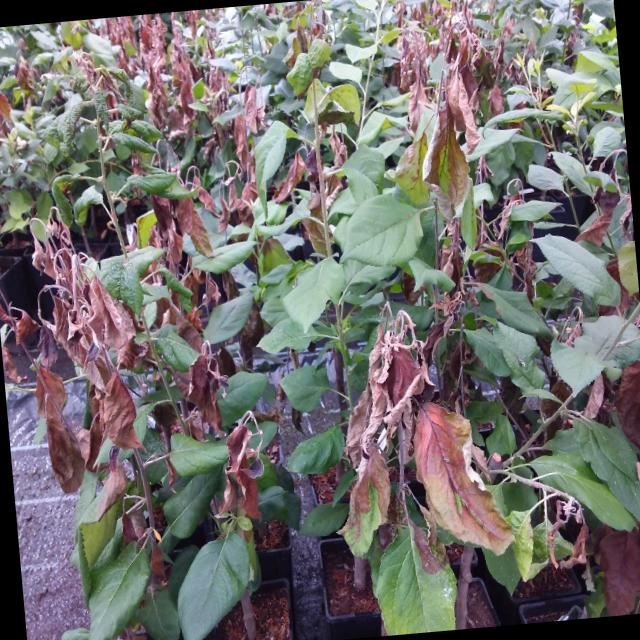-FireBlight-: (0, 222, 170, 590), (336, 318, 514, 581), (394, 16, 509, 201), (182, 62, 267, 224), (103, 11, 201, 137), (154, 193, 222, 356), (272, 121, 351, 214), (419, 223, 475, 350), (580, 358, 640, 471), (165, 347, 230, 442), (597, 525, 640, 617), (227, 409, 262, 519), (0, 90, 20, 144)
